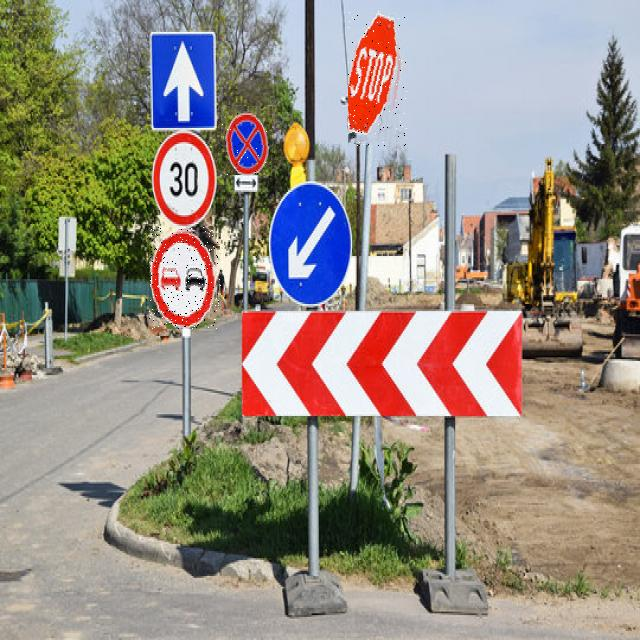no overtaking: (149, 227, 221, 329)
no stopping: (222, 106, 272, 175)
stop: (348, 11, 407, 146)
